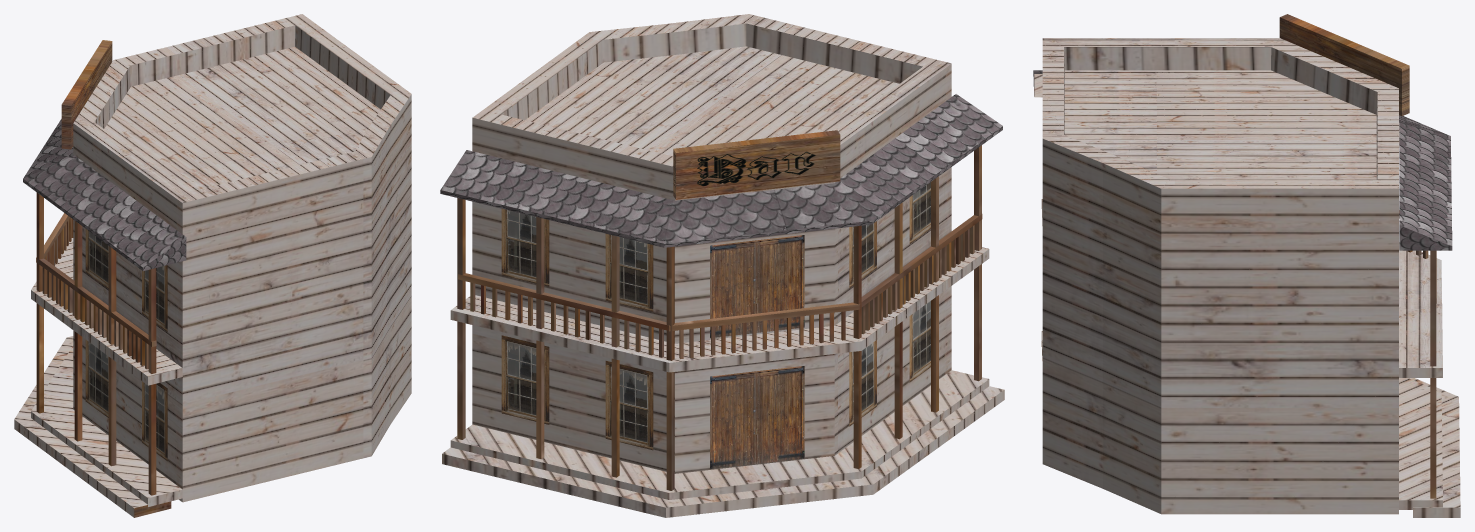
Rendered from bar.fbx.
The picture shows the model from 3 angles, left to right: view 1: azimuth 30°, elevation 25°; view 2: azimuth 150°, elevation 25°; view 3: azimuth 270°, elevation 25°; orthographic projection. The views are drawn at different scales.
Visible parts, largest first — view 1: bar; view 2: bar; view 3: bar.
Boxes of the visible parts, x1=… form: bar: x1=14, y1=14, x2=411, y2=517; bar: x1=440, y1=14, x2=1004, y2=517; bar: x1=1033, y1=14, x2=1460, y2=517.
Bounding box in the file's own units: 238 × 216 × 240.
1 material, 1 textured.
